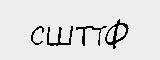С: (29, 23, 44, 46)
Т: (93, 24, 107, 48), (76, 25, 90, 47)
Ф: (103, 19, 129, 51)
Ш: (46, 24, 74, 48)
